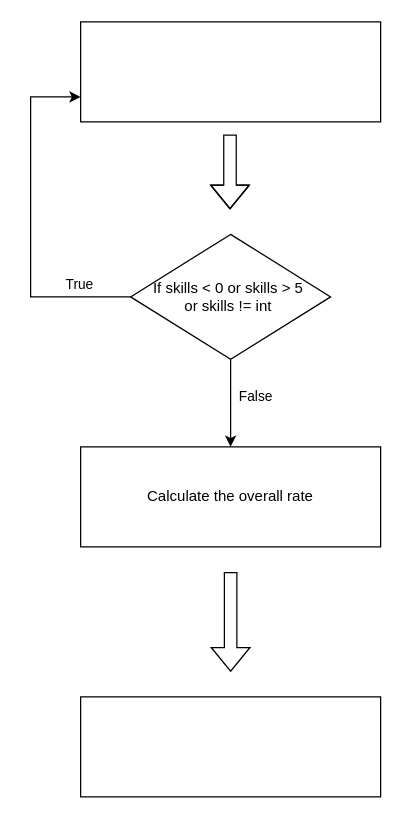
Image size: 403x819. Some labels were removed from this diagram. The centre of each missing label's shape, as x and y in pixels:
"Ask the user to enter the six skills" goes at (x=230, y=71).
"Output the average salary" goes at (x=230, y=746).
